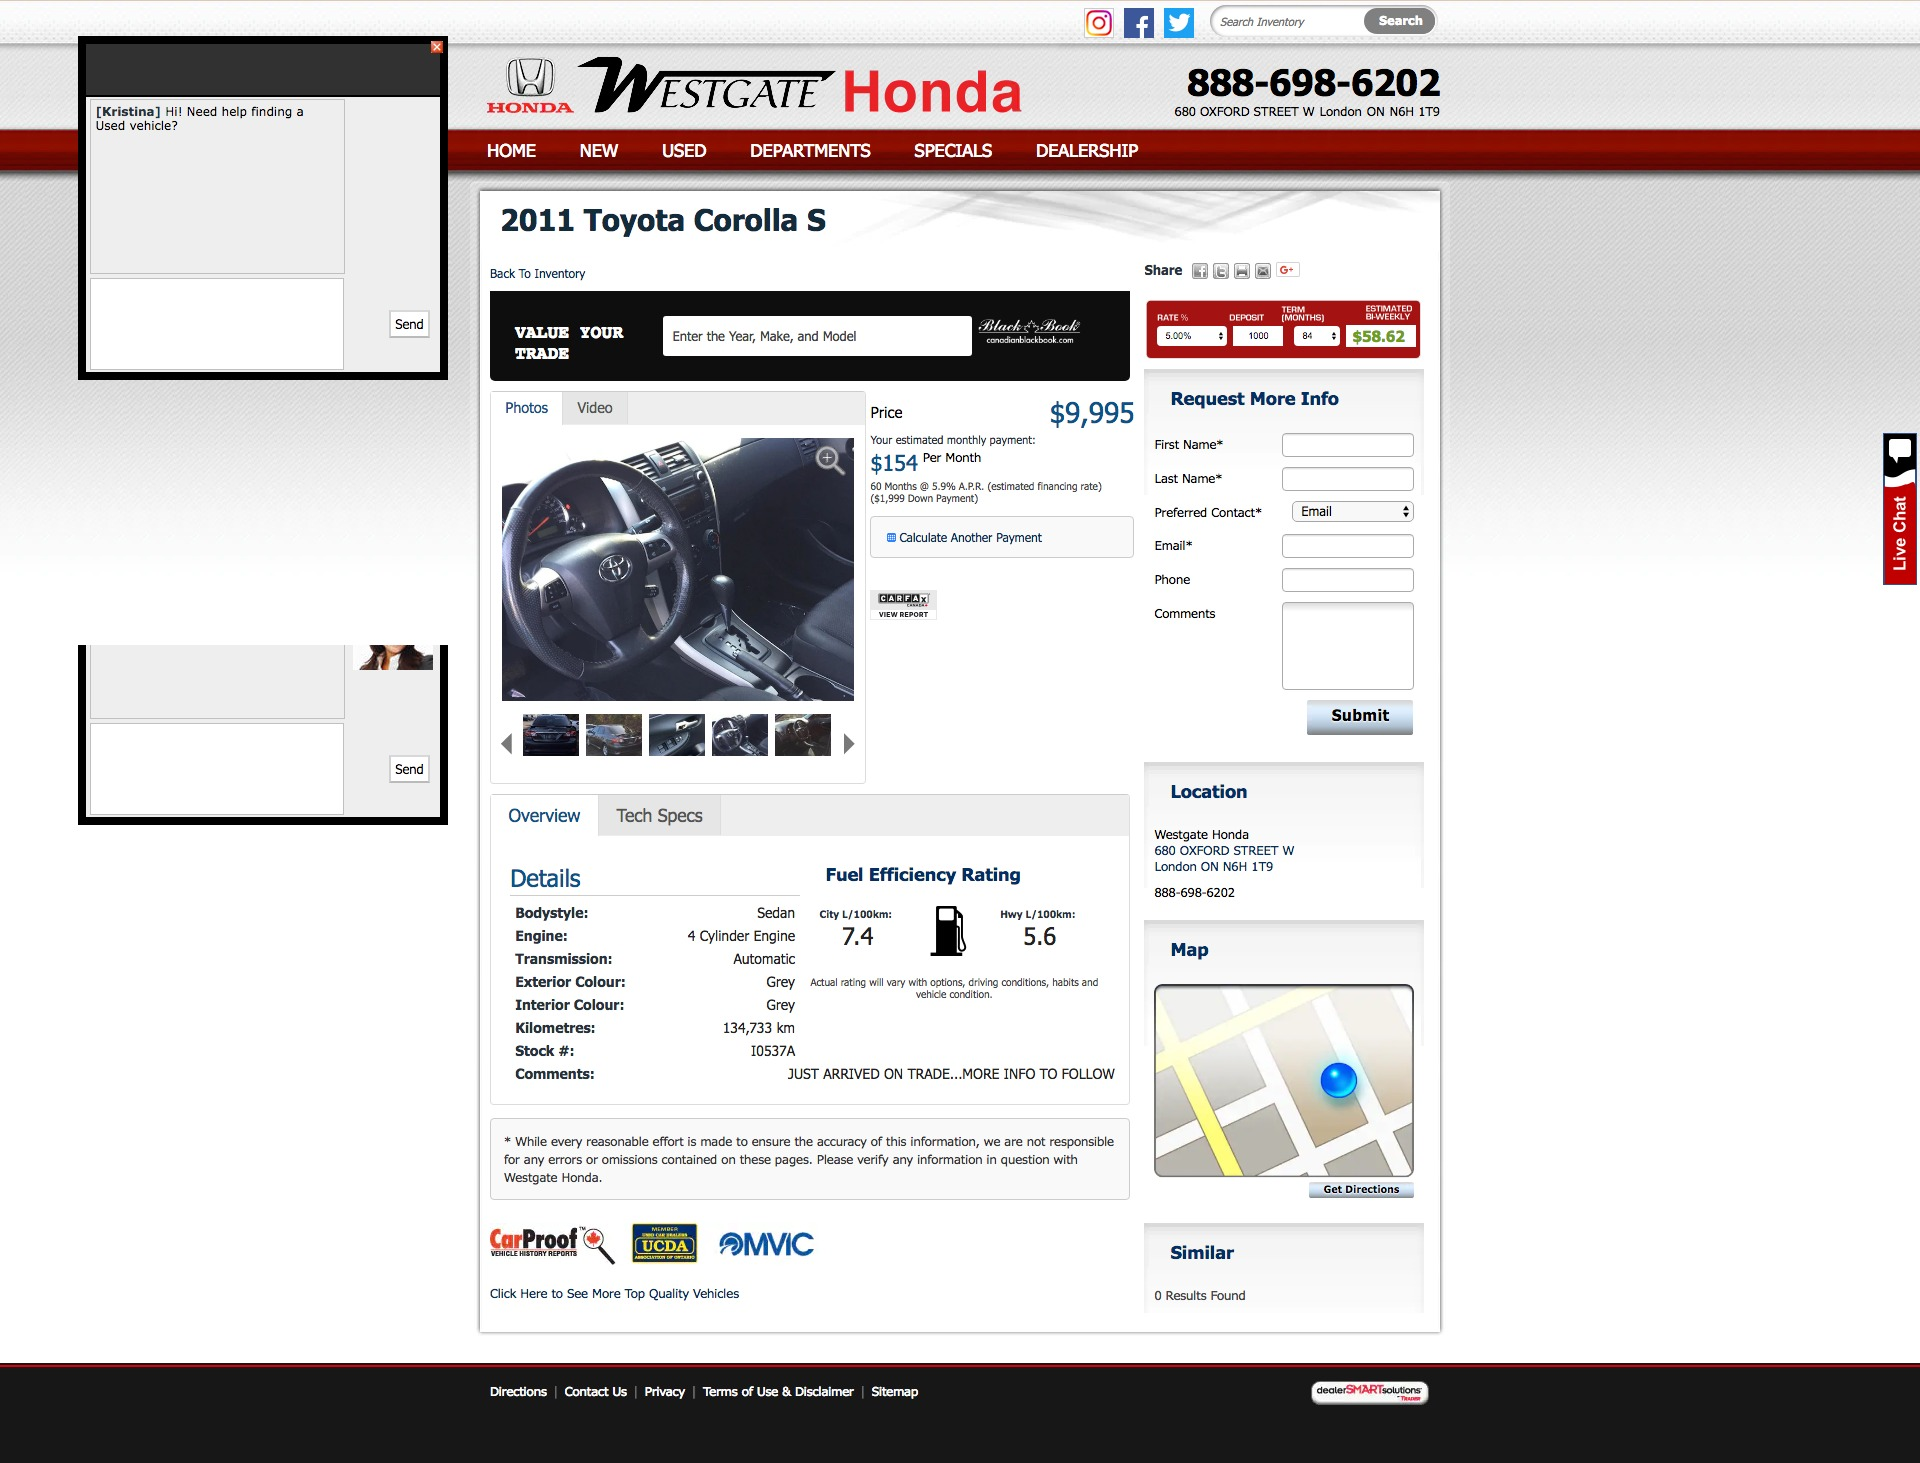car: (843, 733, 856, 756)
